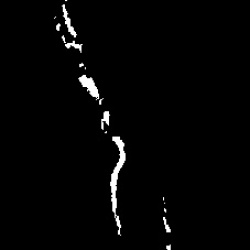crack: (111, 136, 125, 235), (80, 73, 103, 103), (161, 198, 174, 232), (63, 5, 75, 38), (64, 37, 82, 51), (101, 111, 109, 131), (80, 63, 86, 68), (58, 23, 62, 30)
